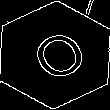O_SE: (20, 22, 90, 88)
